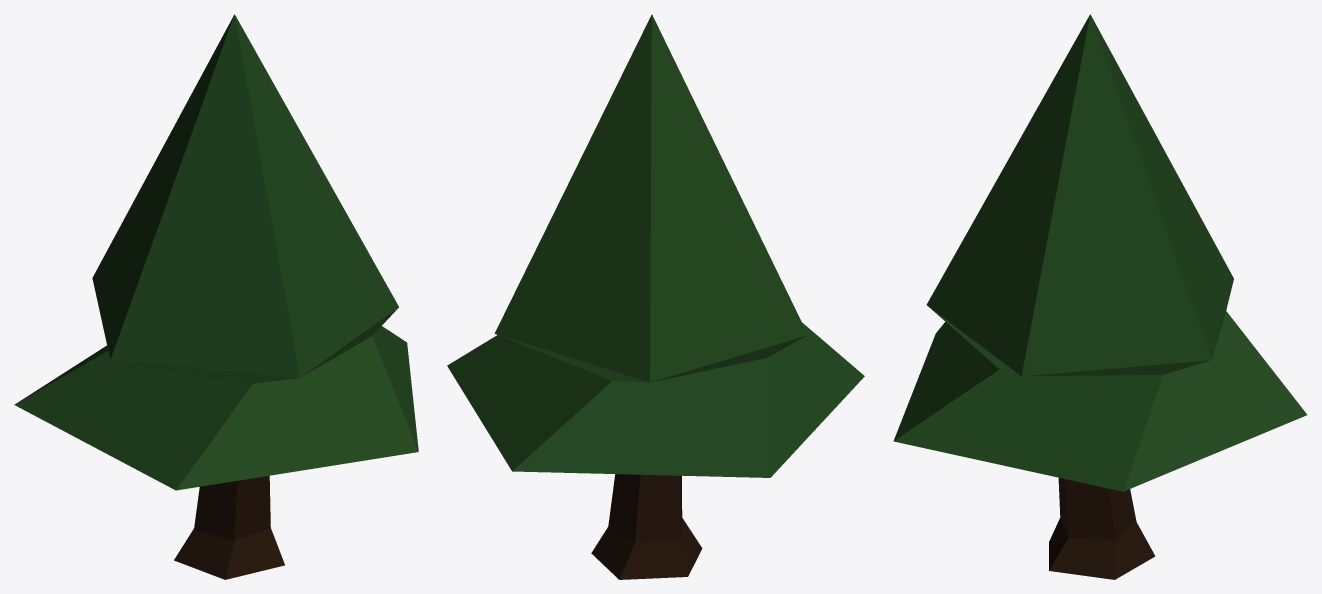
Rendered from sapin.fbx.
The picture shows the model from 3 angles, left to right: view 1: azimuth 30°, elevation 25°; view 2: azimuth 150°, elevation 25°; view 3: azimuth 270°, elevation 25°; orthographic projection.
Visible parts, largest first — view 1: Sapin.001; view 2: Sapin.001; view 3: Sapin.001.
Boxes of the visible parts, box(x1,y1,x2,y2) form: Sapin.001: box(14, 14, 418, 579); Sapin.001: box(447, 14, 864, 579); Sapin.001: box(893, 14, 1307, 579).
Size of the model in its own units: 7.16 by 7.18 by 10.38.
